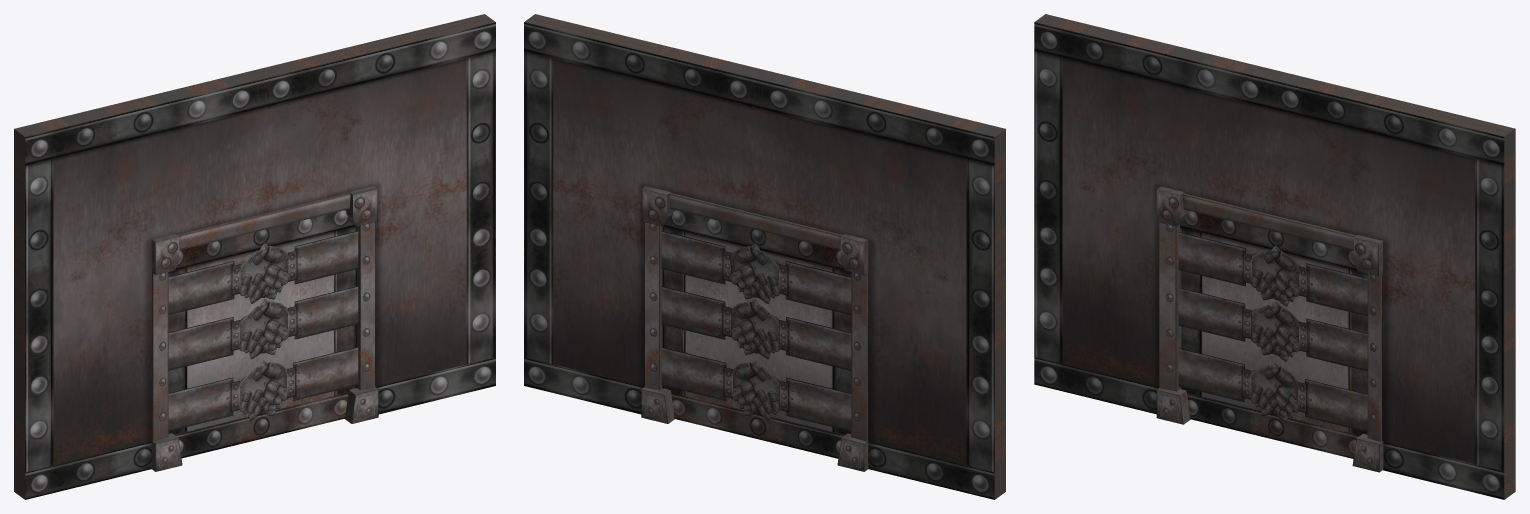
File: chq_door.fbx
3 views of the same model, side by side, from view 1: azimuth 30°, elevation 25°; view 2: azimuth 150°, elevation 25°; view 3: azimuth 330°, elevation 25° (orthographic).
Parts seen in each view (by area): view 1: pocket, doorbottom1, doorframe_collsion, doortop1, pCube24 (×3), pCube34, pCube37, pCube42, pCube44, pCube36, pCube40, pCube30 (×2) (+3 smaller); view 2: pocket, doorbottom1, doorframe_collsion, doortop1, Back_pCube48 (×3), Back_pCube46 (×3), Back_pCube50 (×2), Back_pCube47, pCube30 (×2), pCube31, pCube32; view 3: pocket, doorbottom1, doorframe_collsion, doortop1, pCube24 (×3), pCube34, pCube37, pCube42, pCube44, pCube36, pCube40, pCube30 (×2) (+2 smaller).
Part boxes in pixels (<box>): pocket: <box>14,14,495,499</box>; doorbottom1: <box>168,324,356,458</box>; doorframe_collsion: <box>152,193,374,441</box>; doortop1: <box>168,210,356,332</box>; pCube24 (×3): <box>240,246,287,416</box>; pCube34: <box>168,261,234,314</box>; pCube37: <box>168,317,233,370</box>; pCube42: <box>168,377,233,431</box>; pCube44: <box>293,347,358,400</box>; pCube36: <box>294,231,358,284</box>; pCube40: <box>294,286,358,339</box>; pCube30 (×2): <box>151,186,377,275</box>; pocket: <box>524,14,1005,499</box>; doorbottom1: <box>662,325,851,458</box>; doorframe_collsion: <box>645,193,867,441</box>; doortop1: <box>662,209,851,332</box>; Back_pCube48 (×3): <box>661,231,851,431</box>; Back_pCube46 (×3): <box>728,246,779,416</box>; Back_pCube50 (×2): <box>661,286,726,400</box>; Back_pCube47: <box>786,317,851,370</box>; pCube30 (×2): <box>642,186,868,275</box>; pCube31: <box>641,387,674,423</box>; pCube32: <box>837,433,868,471</box>; pocket: <box>1034,14,1515,499</box>; doorbottom1: <box>1180,326,1367,458</box>; doorframe_collsion: <box>1159,193,1381,441</box>; doortop1: <box>1180,210,1367,333</box>; pCube24 (×3): <box>1251,249,1298,417</box>; pCube34: <box>1178,232,1245,286</box>; pCube37: <box>1178,287,1245,341</box>; pCube42: <box>1178,348,1244,402</box>; pCube44: <box>1305,379,1367,432</box>; pCube36: <box>1306,263,1367,316</box>; pCube40: <box>1306,318,1367,371</box>; pCube30 (×2): <box>1156,186,1382,276</box>.
Size of what is drawn, in the model's own units: 32.67 by 24.12 by 2.29.
Materials: 12 (11 with a texture image).
